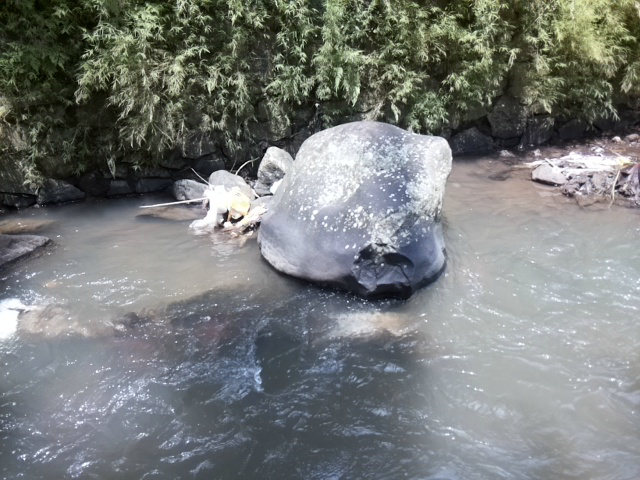Sampah_Plastik: (198, 182, 253, 238)
